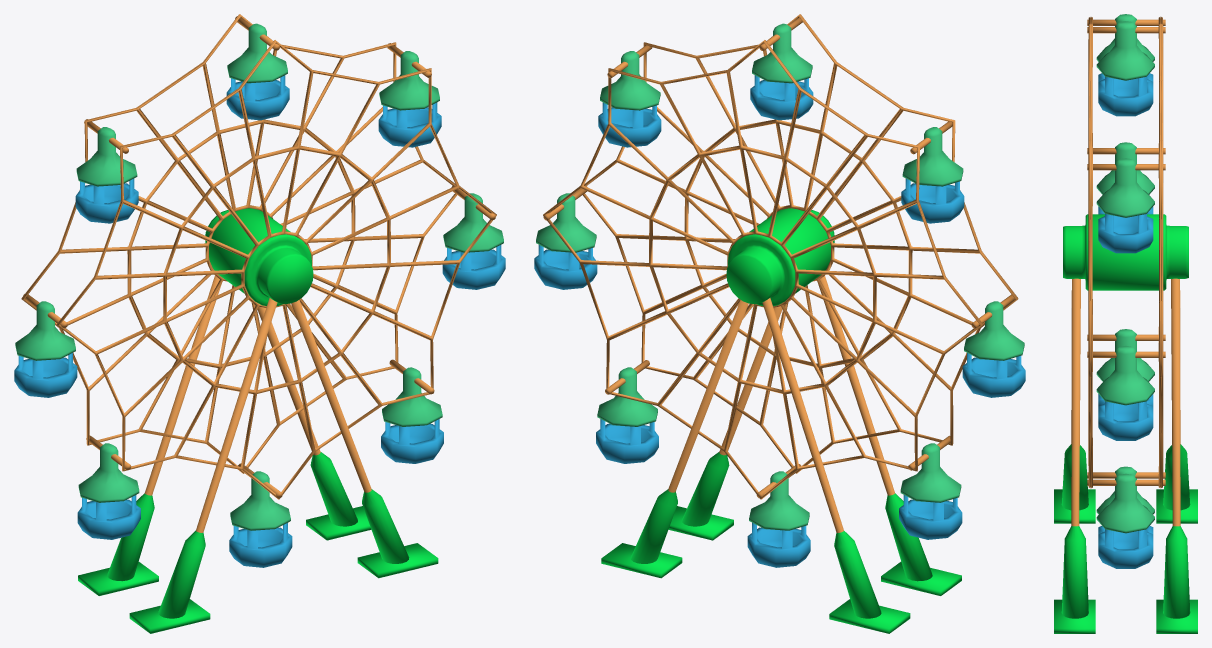
File: FerrisWheel.fbx
The picture shows the model from 3 angles, left to right: view 1: azimuth 30°, elevation 25°; view 2: azimuth 150°, elevation 25°; view 3: azimuth 270°, elevation 25°; orthographic projection.
Visible parts, largest first — view 1: FerrusWheel; view 2: FerrusWheel; view 3: FerrusWheel.
Boxes of the visible parts, box(x1,y1,x2,y2) form: FerrusWheel: box(14, 14, 505, 633); FerrusWheel: box(534, 14, 1025, 633); FerrusWheel: box(1054, 14, 1197, 633).
Size of the model in its own units: 3806 by 4098 by 987.
